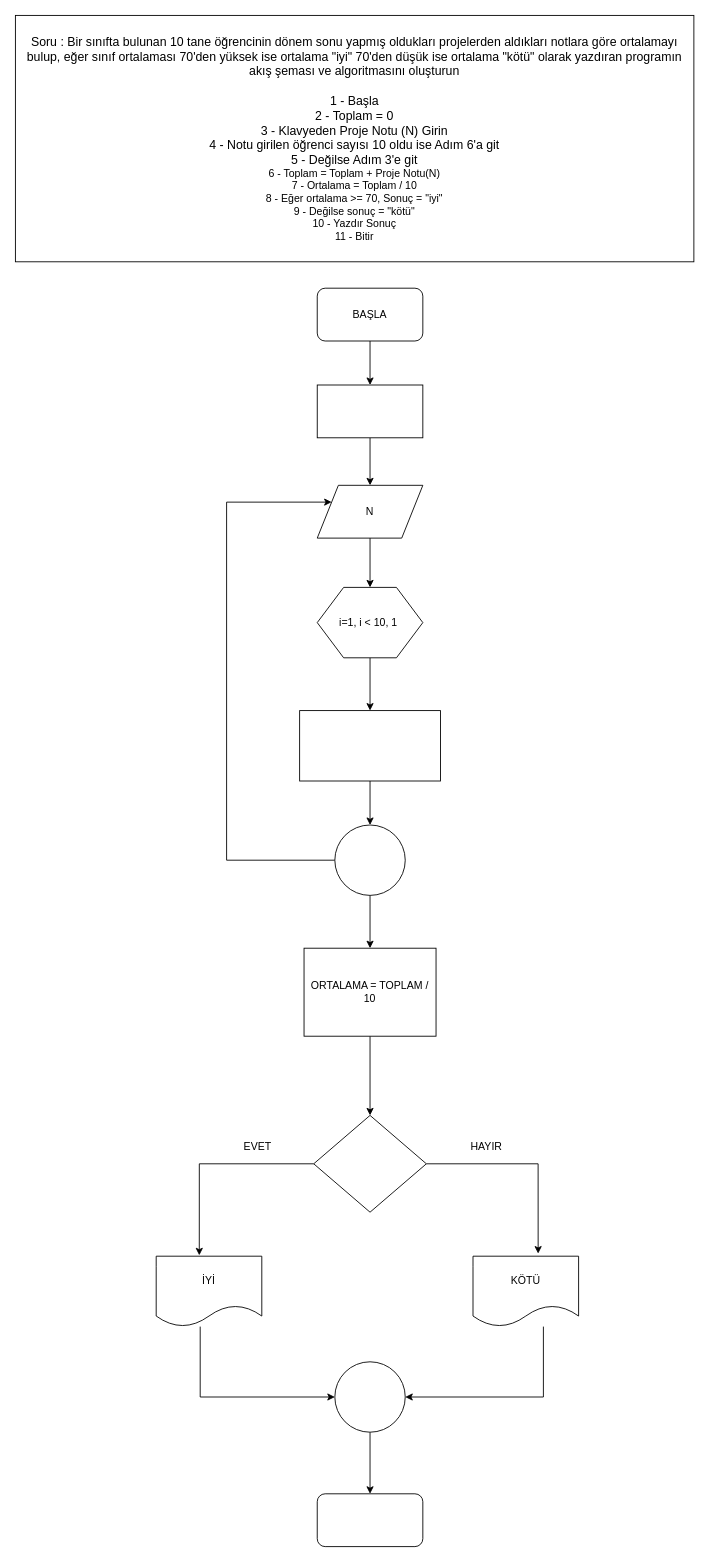
Image size: 709x1562. Some labels were removed from this diagram. Here are the shapes that lost their labels. From the top down, the centre of each, then its label:
At [369,411]: "TOPLAM = 0".
At [369,745]: "TOPLAM = TOPLAM + PROJE NOTU (N)".
At [369,1163]: "ORTALAMA >= 70".
At [369,1520]: "SON".
